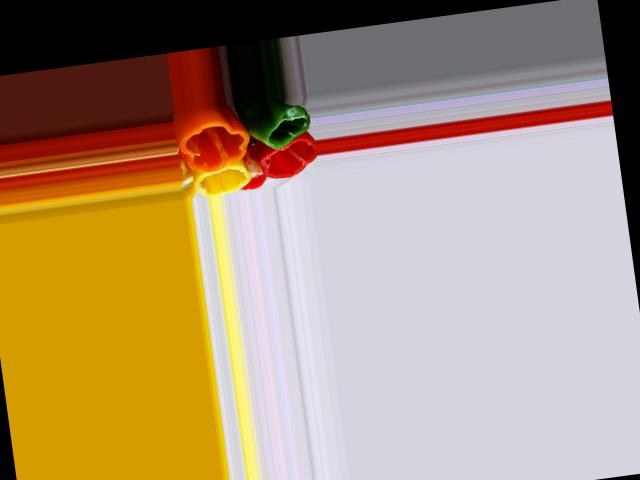bell_pepper: (257, 138, 317, 182)
